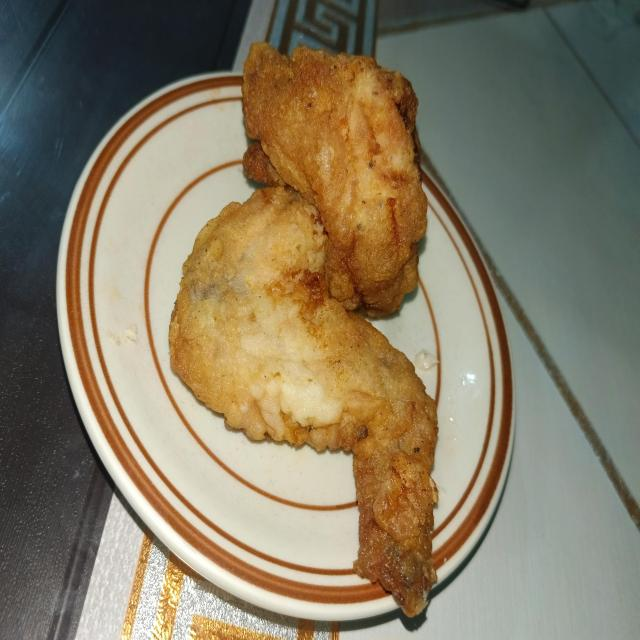Chicken -Fried Chicken-: (176, 38, 460, 584)
